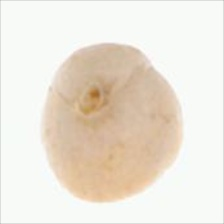L3: (71, 80, 122, 115)
L4: (42, 42, 183, 202)
